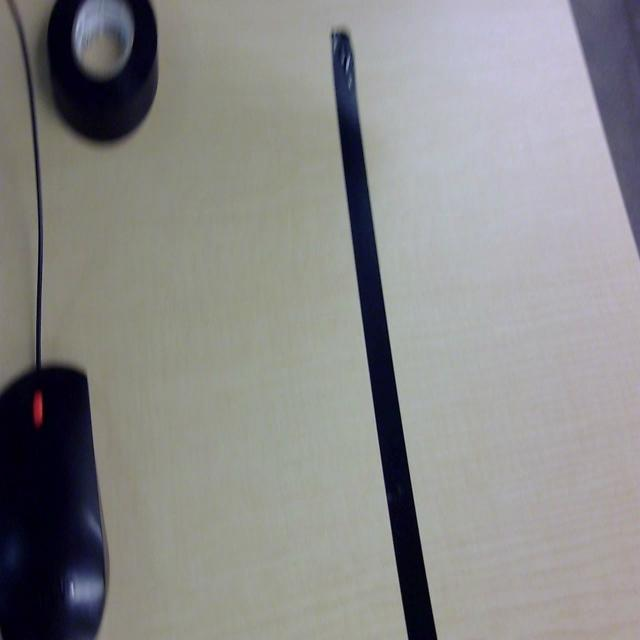tape: (330, 26, 437, 640)
